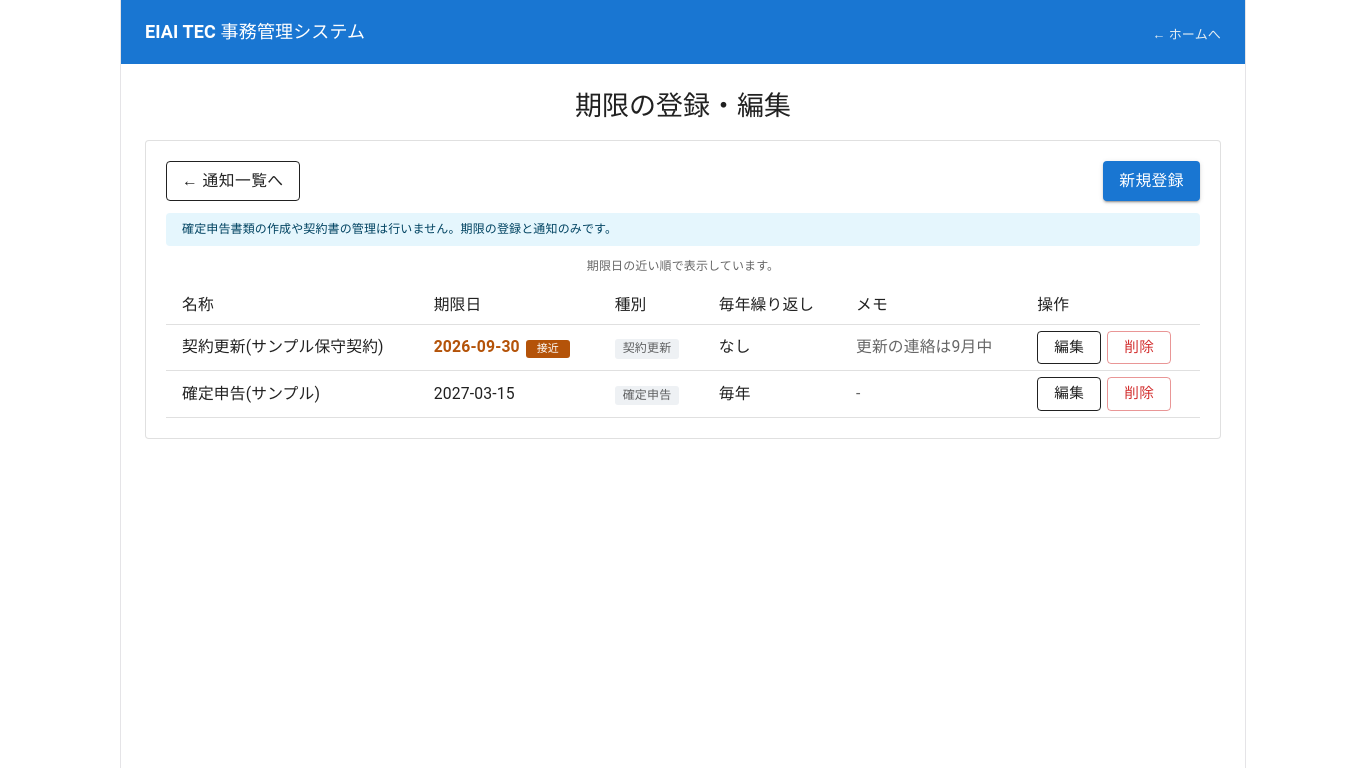
Test case: DeadlineListPage (SC-17) › サーバーエラーは保存ダイアログ内に表示する
Check: the text "契約更新(サンプル保守契約)" is shown, box [166,324,418,371]
Click the button "新規登録" at (1152, 181), box [1103,161,1200,201]
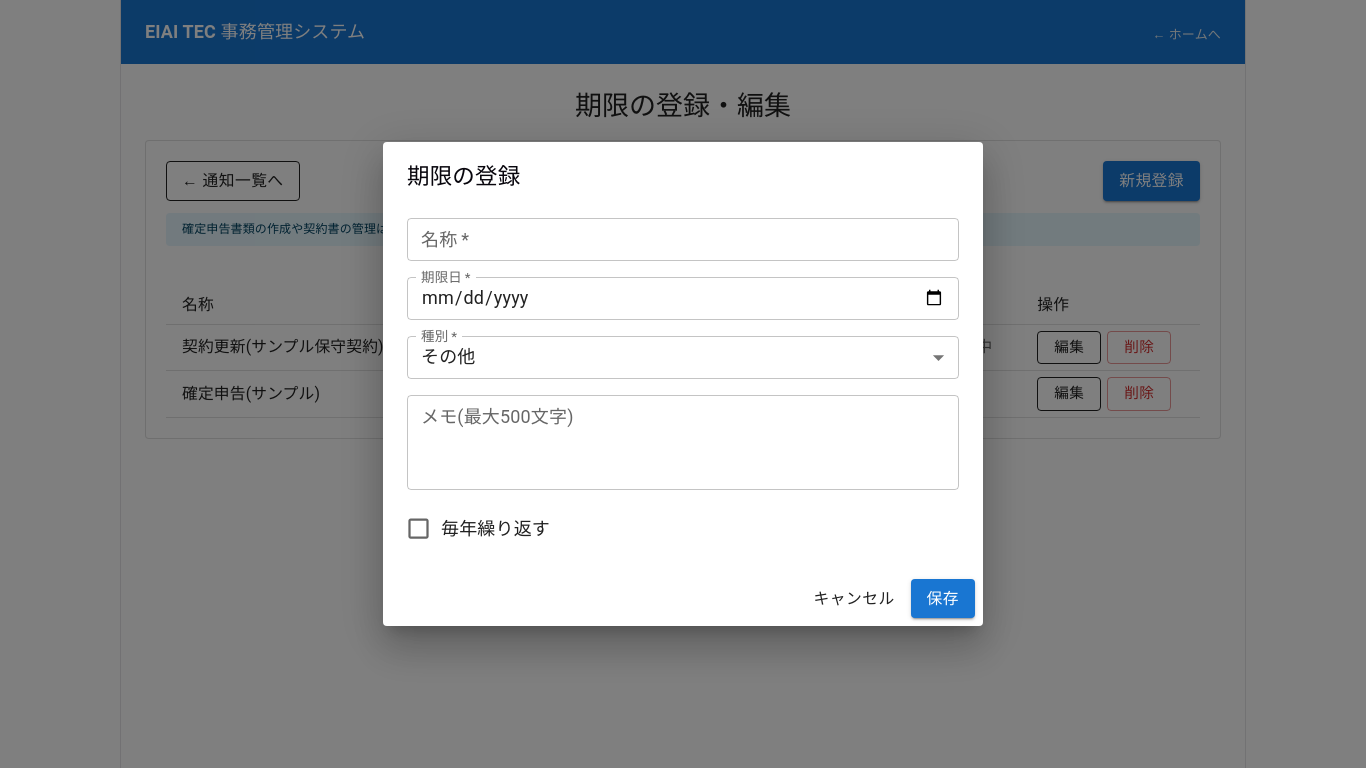
Type "A" into the field labelled "名称 *" at (683, 239), box [407,218,959,261]
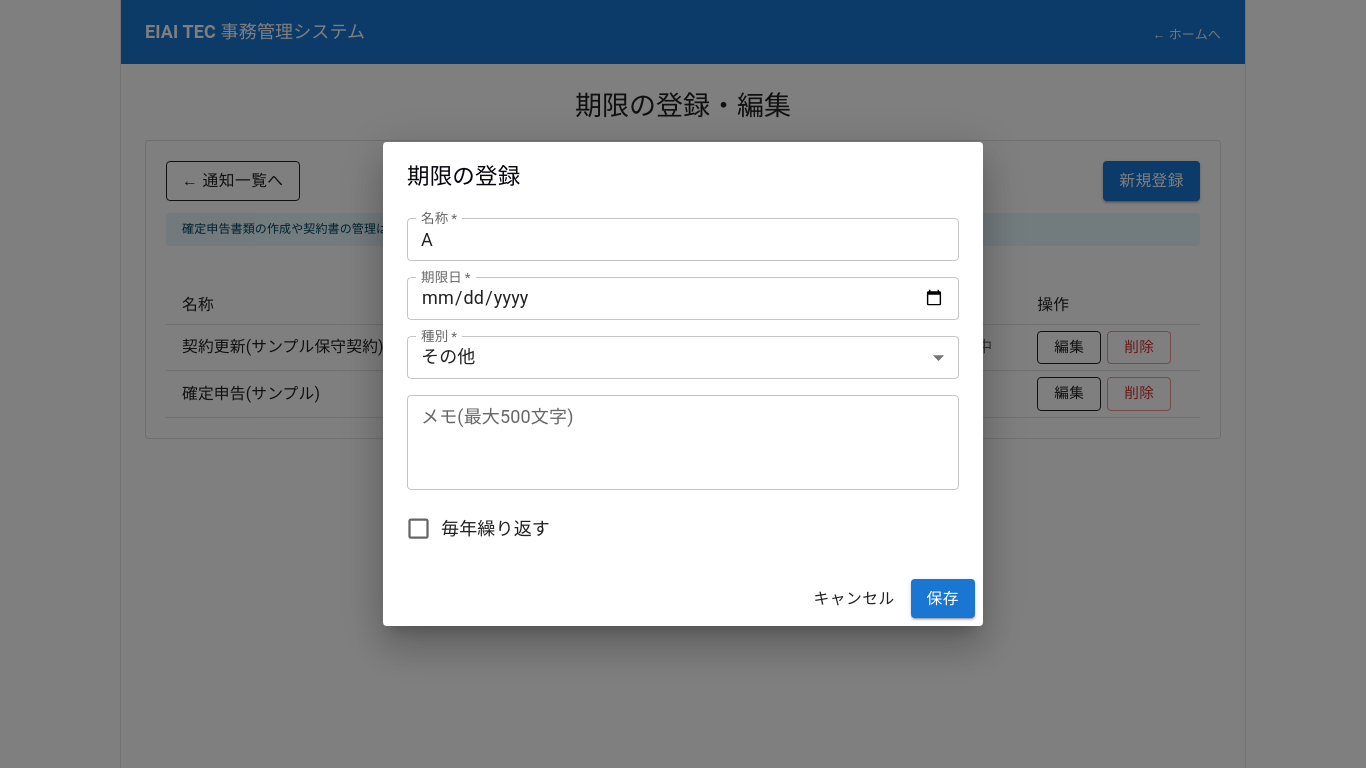
Type "2026-12-01" into the date field labelled "期限日 *" at (683, 298), box [407,277,959,320]
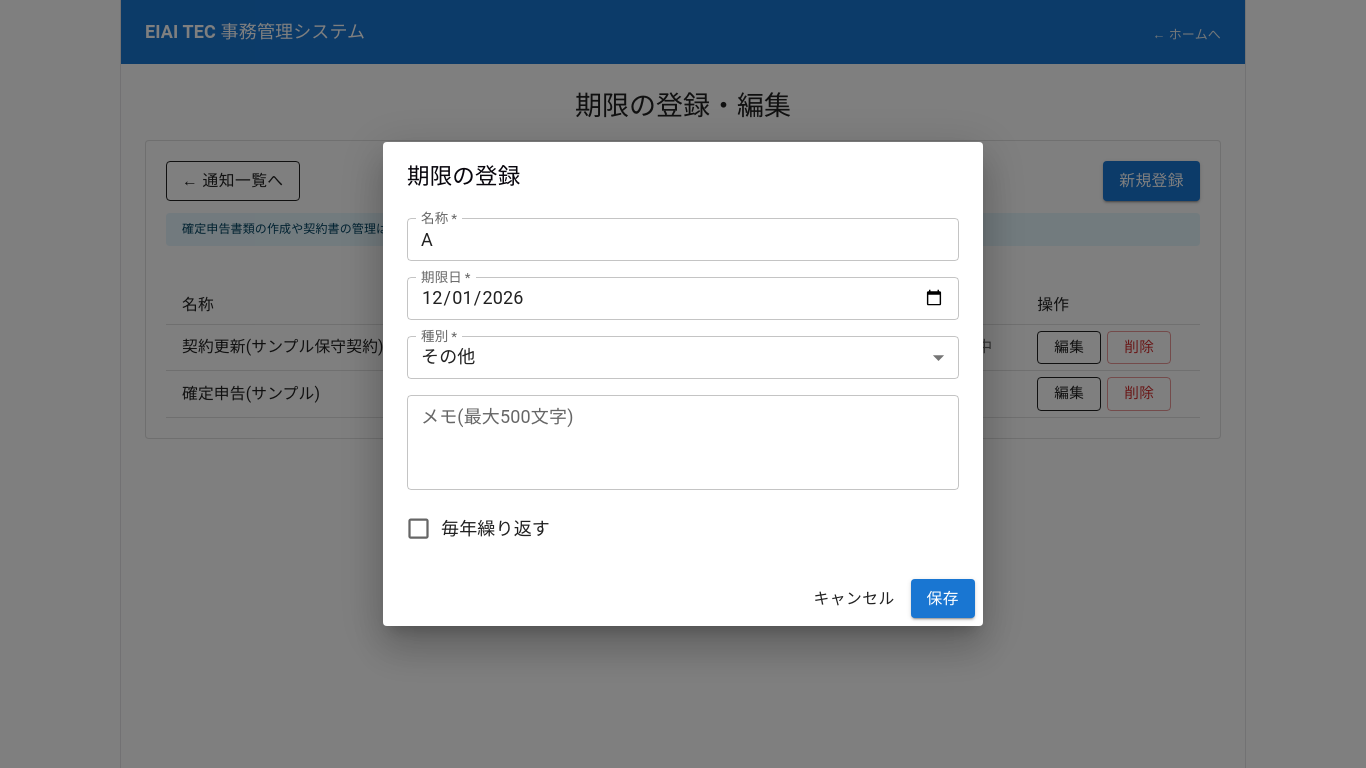
Click the button "保存" at (943, 598), box [911,578,975,618]
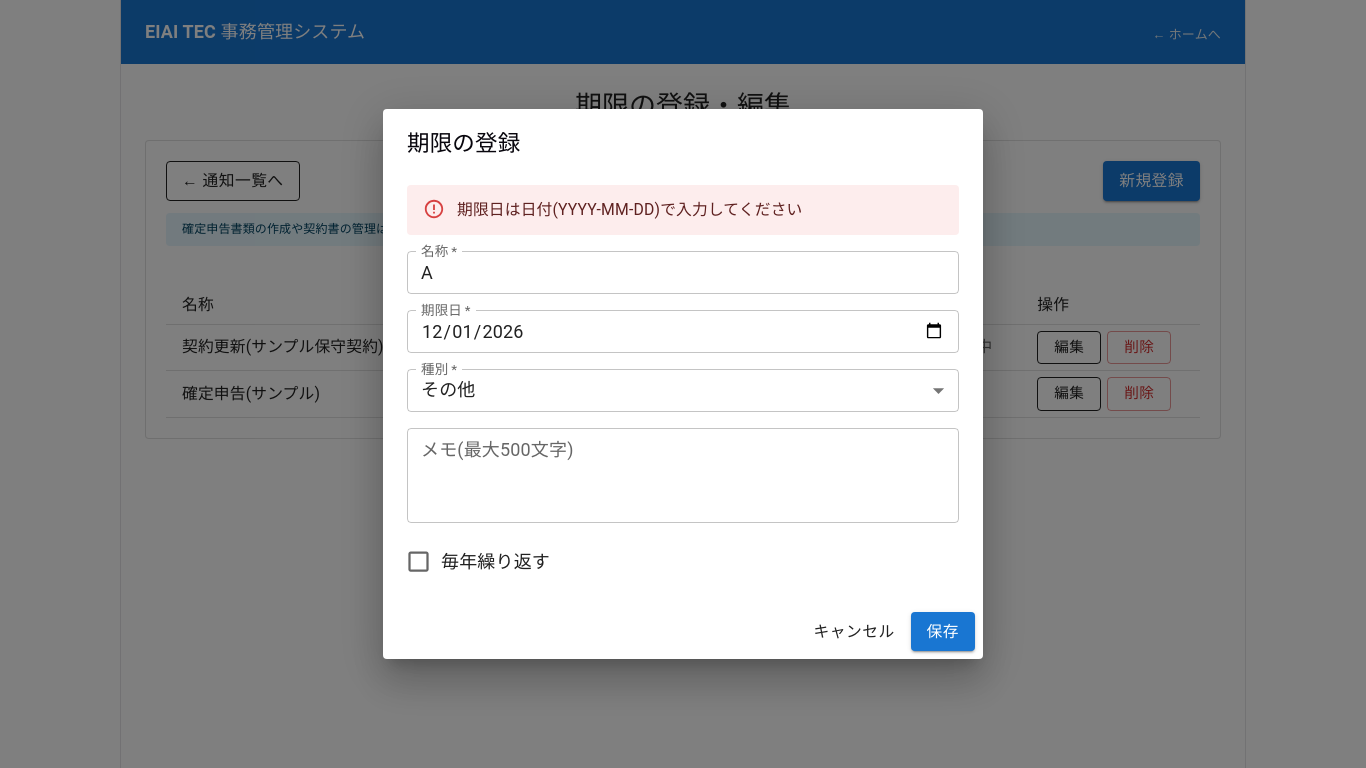
Check: the text "期限日は日付(YYYY-MM-DD)で入力してください" is shown, box [457,200,802,219]
